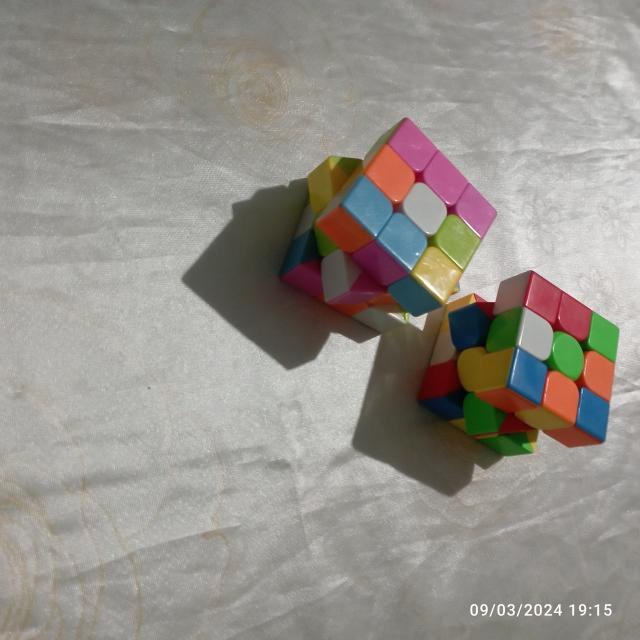Rub: (276, 114, 498, 338), (415, 263, 627, 462)
